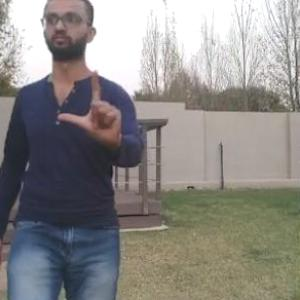land_hand: (55, 64, 126, 147)
